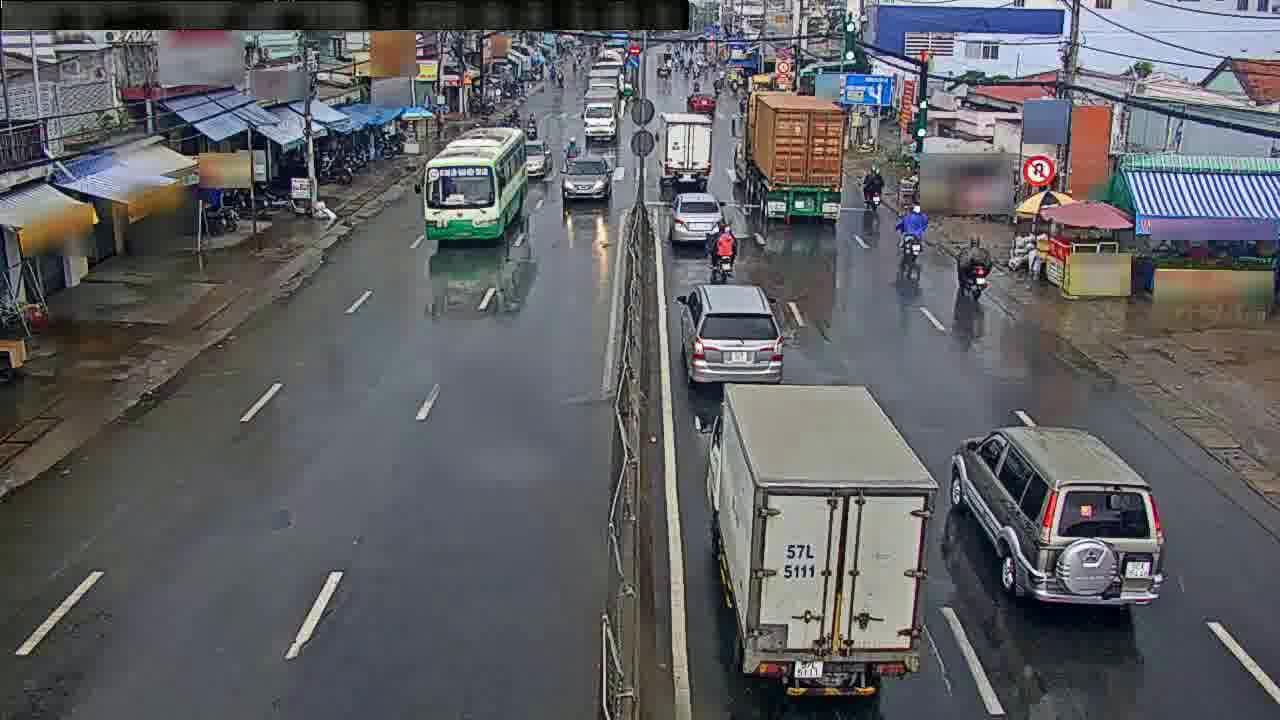car: (942, 426, 1170, 602), (675, 281, 790, 386), (667, 190, 733, 244), (559, 152, 615, 202), (510, 140, 549, 175)
container: (720, 385, 920, 681), (747, 91, 845, 222), (660, 107, 712, 188)
motorbike: (954, 233, 996, 296), (706, 218, 740, 277), (895, 203, 930, 259), (863, 163, 883, 215)
passenger_car: (428, 129, 524, 245)
